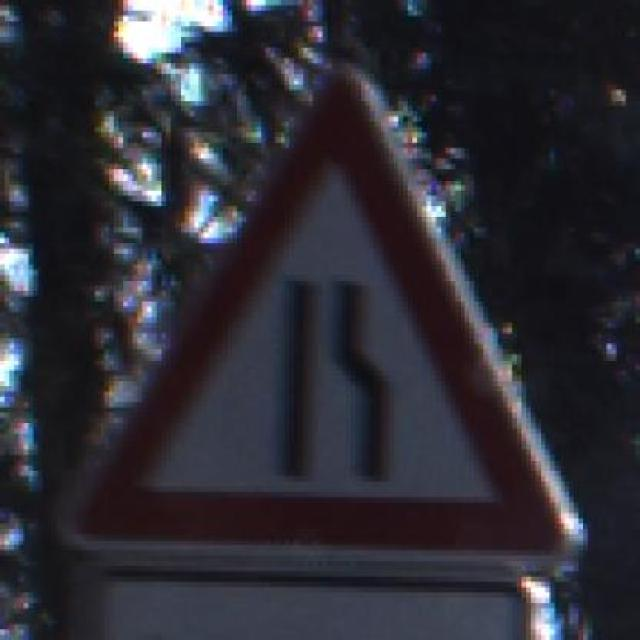-Road narrows on right: (62, 53, 592, 582)
